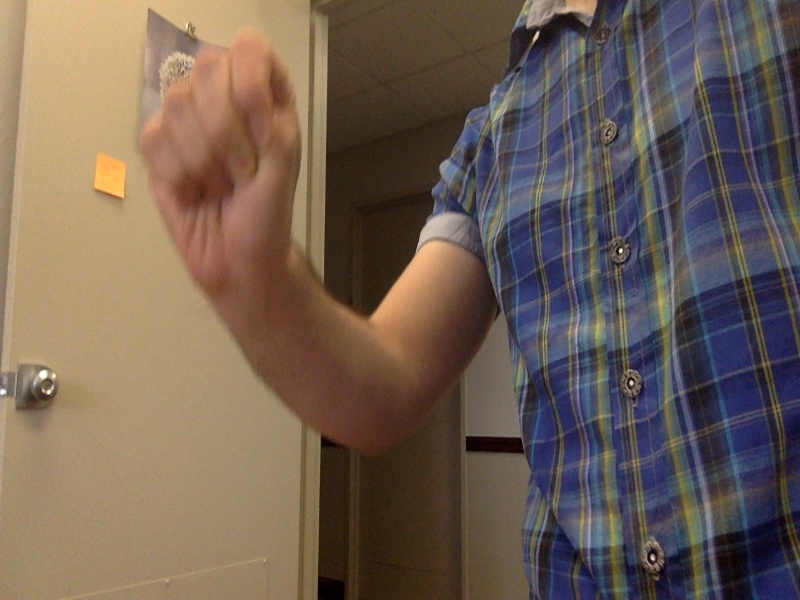0-hand: (133, 30, 303, 281)
